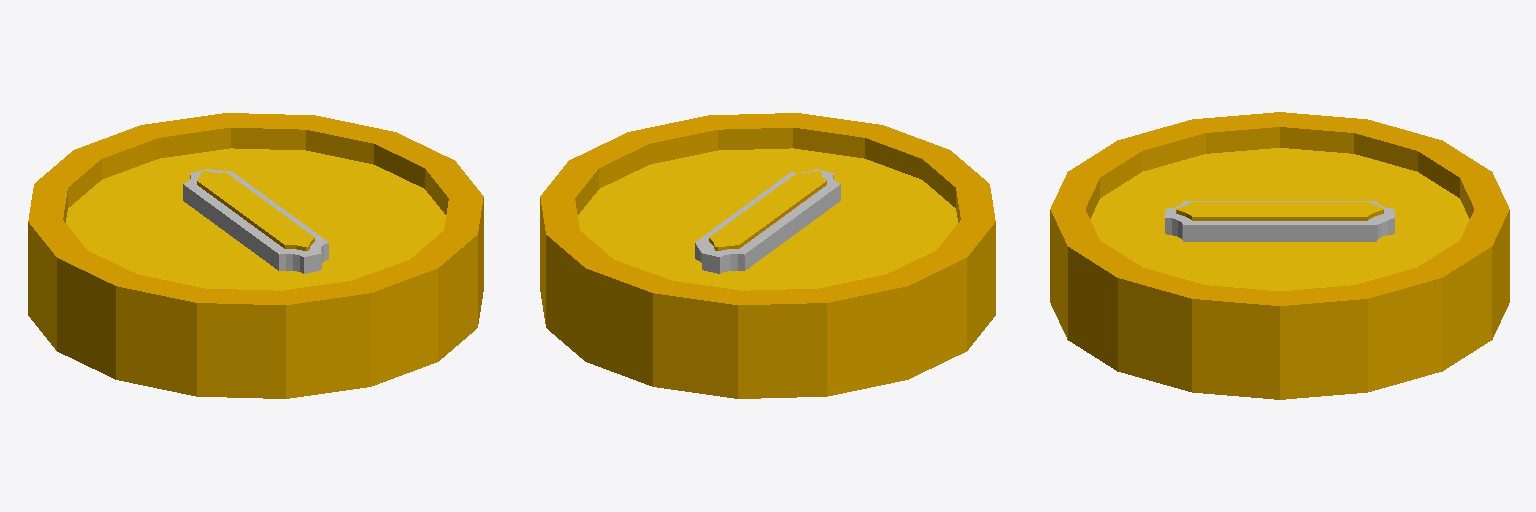
3 views of the same model, side by side, from view 1: azimuth 30°, elevation 25°; view 2: azimuth 150°, elevation 25°; view 3: azimuth 270°, elevation 25° (orthographic).
Visible parts, largest first — view 1: Coin_Circle, cutout_Cube.001; view 2: Coin_Circle, cutout_Cube.001; view 3: Coin_Circle, cutout_Cube.001.
Part boxes in pixels (x1,y1,x2,y2): Coin_Circle: (28,113,483,398); cutout_Cube.001: (183,169,328,273); Coin_Circle: (540,113,995,398); cutout_Cube.001: (695,169,840,273); Coin_Circle: (1050,112,1509,399); cutout_Cube.001: (1165,201,1394,241).
Size of the model in its own units: 2 by 0.45 by 2.
2 materials, 1 textured.